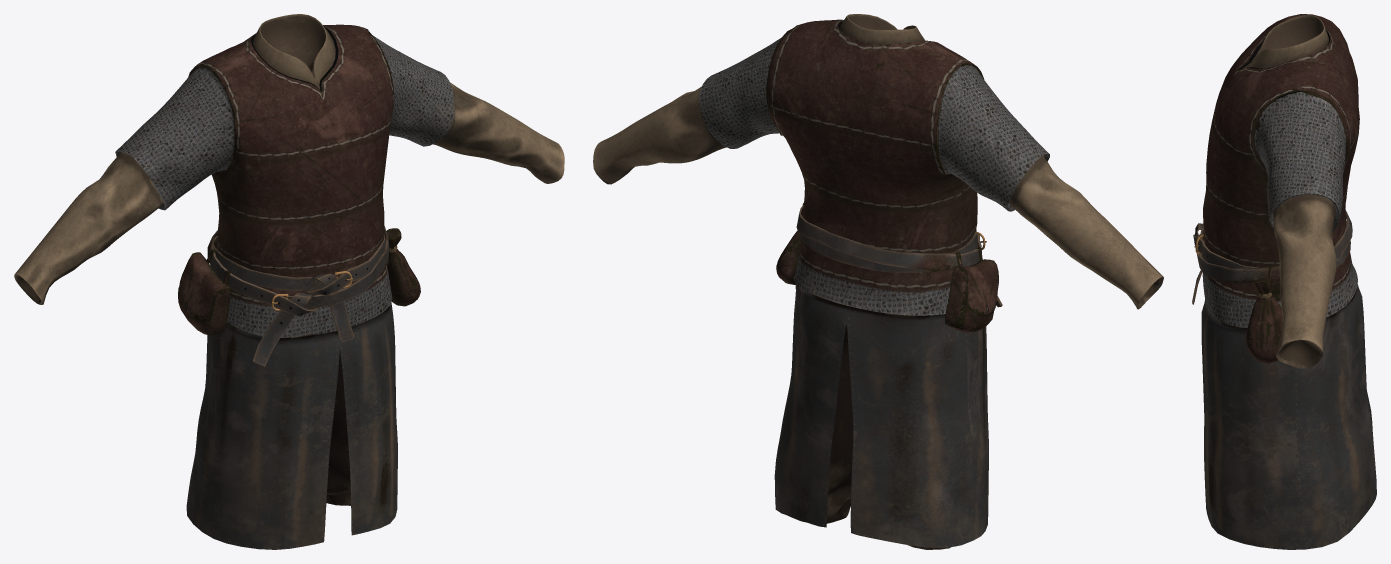
File: cts_rohan_armor4.fbx
The picture shows the model from 3 angles, left to right: view 1: azimuth 30°, elevation 25°; view 2: azimuth 150°, elevation 25°; view 3: azimuth 270°, elevation 25°; orthographic projection. The views are drawn at different scales.
Parts seen in each view (by area): view 1: cts_rohan_armor4; view 2: cts_rohan_armor4; view 3: cts_rohan_armor4.
Part boxes in pixels (left/top/right/bottom): cts_rohan_armor4: left=14, top=14, right=564, bottom=549; cts_rohan_armor4: left=593, top=14, right=1163, bottom=549; cts_rohan_armor4: left=1192, top=14, right=1376, bottom=549.
Bounding box in the file's own units: 1.38 × 0.4125 × 1.18.
Materials: 1 (1 with a texture image).
